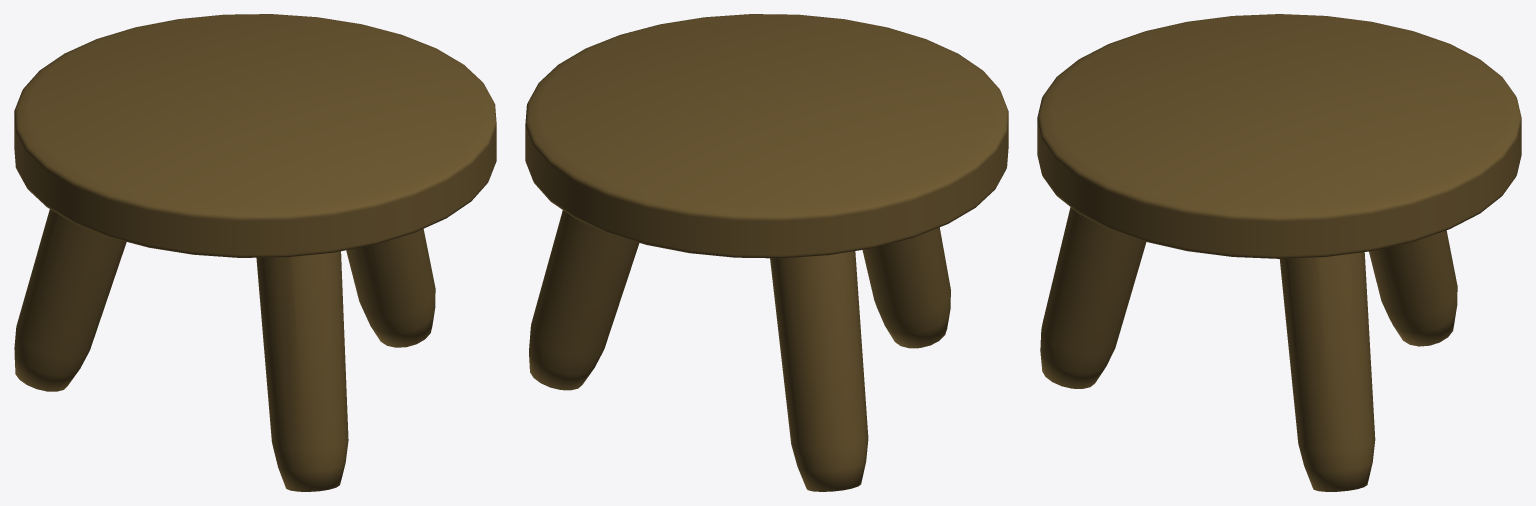
The model's file is Chair.fbx.
The picture shows the model from 3 angles, left to right: view 1: azimuth 30°, elevation 25°; view 2: azimuth 150°, elevation 25°; view 3: azimuth 270°, elevation 25°; orthographic projection.
Visible parts, largest first — view 1: Chair; view 2: Chair; view 3: Chair.
Boxes of the visible parts, <box> form: Chair: <box>14,14,496,491</box>; Chair: <box>525,14,1008,491</box>; Chair: <box>1037,14,1521,491</box>.
Size of the model in its own units: 72.12 by 48.29 by 72.12.
